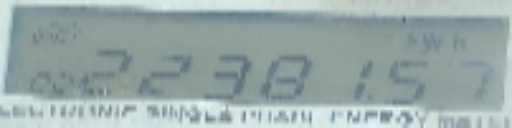1: (347, 48, 370, 103)
2: (78, 39, 128, 96), (141, 53, 193, 101)
3: (200, 49, 255, 105)
5: (382, 51, 434, 105)
7: (454, 53, 500, 113)
8: (253, 46, 312, 105)
d: (366, 90, 378, 101)
